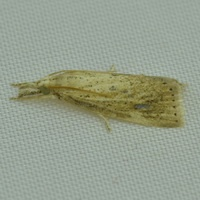insect: (11, 66, 186, 131)
